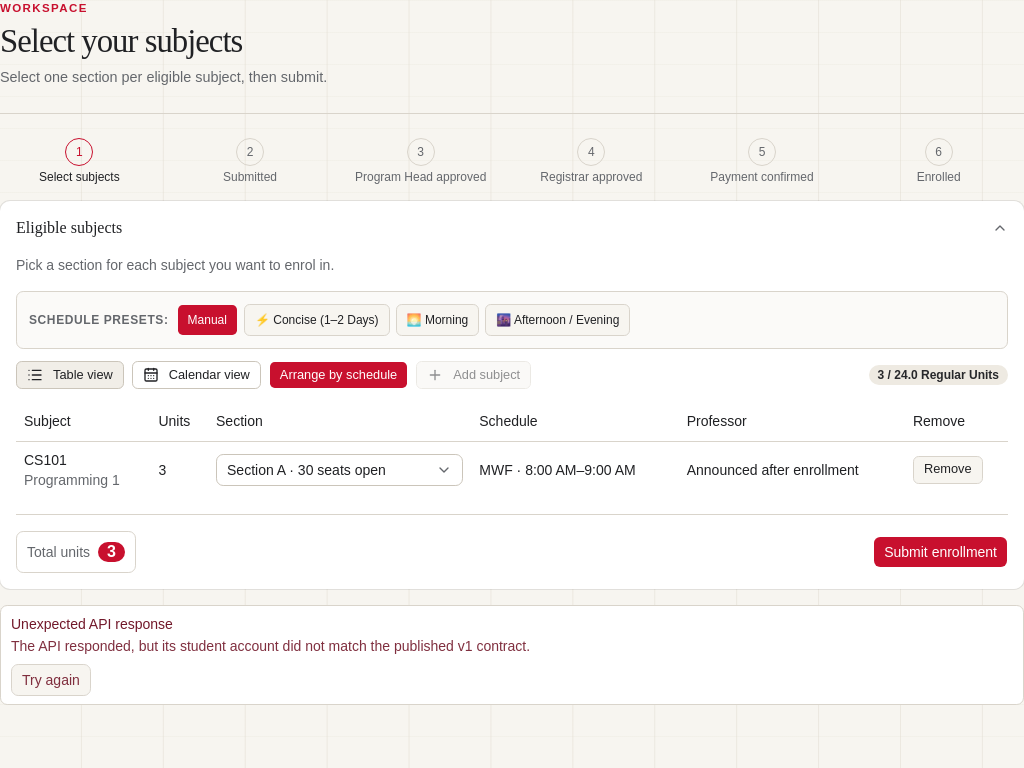
Test: EnrollmentWorkspace › shows a clear message and preserves the selection when submission conflicts
Click the dropdown named "CS101 section".
click(340, 470)  # box x1=216 y1=454 x2=463 y2=486
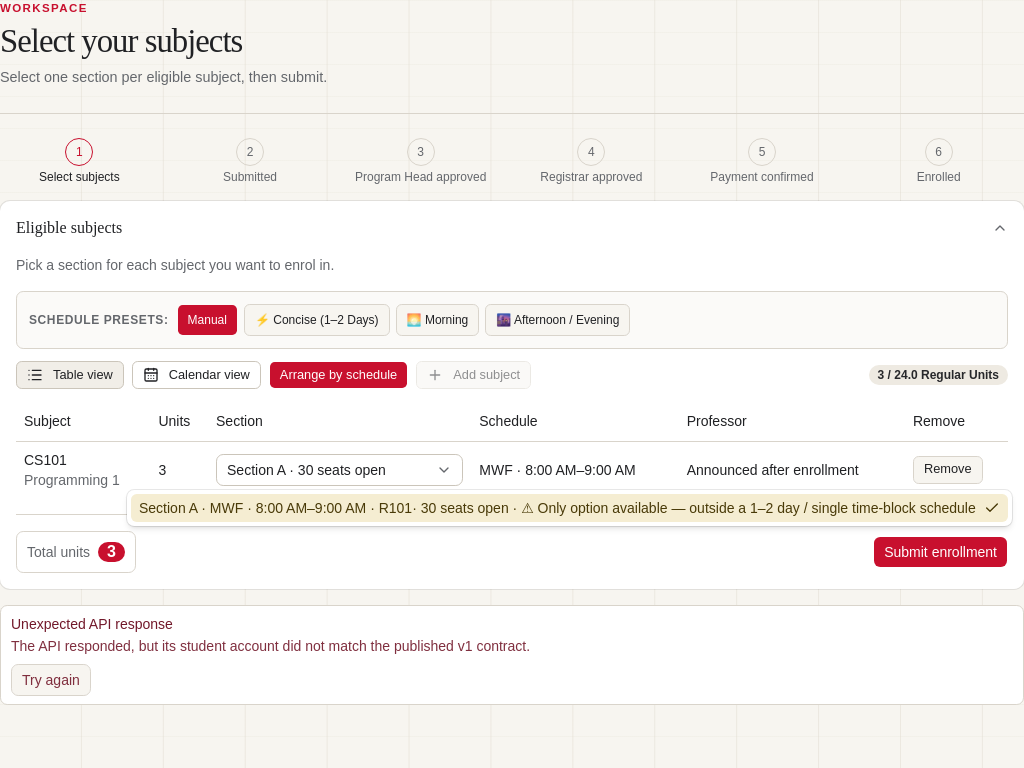
Click the option "Section A".
click(569, 508)  # box x1=131 y1=494 x2=1008 y2=522
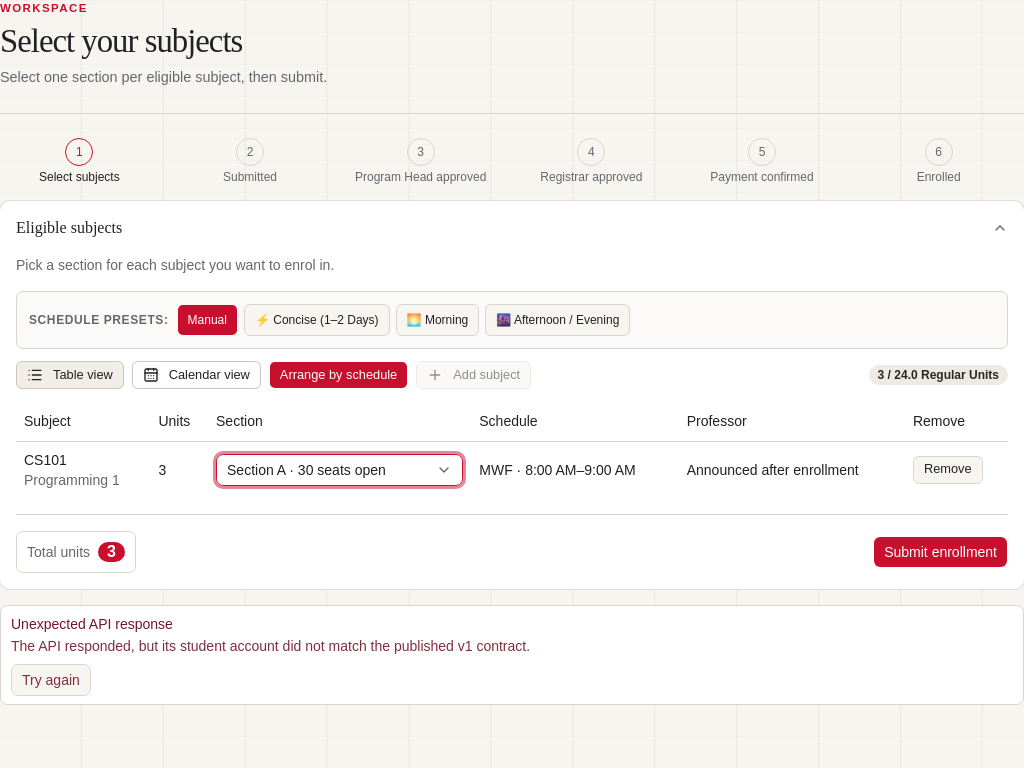
Click the button "Submit enrollment".
click(941, 552)  # box x1=873 y1=536 x2=1008 y2=568
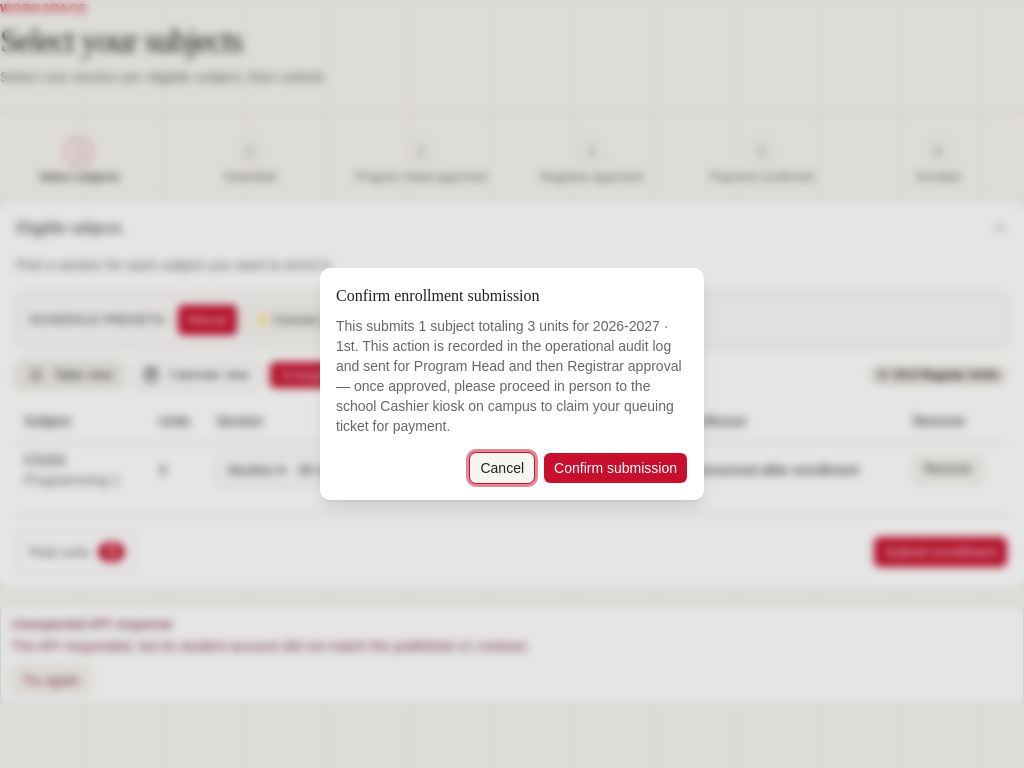
Click the button "Confirm submission".
click(616, 468)  # box x1=543 y1=452 x2=688 y2=484
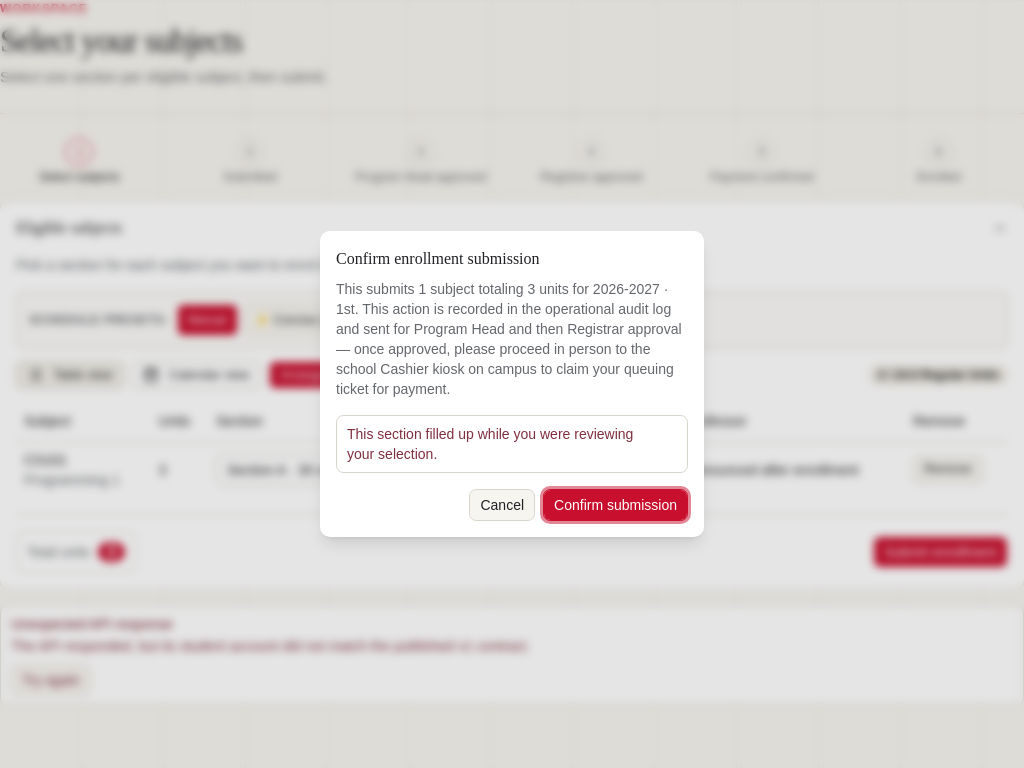
Expected: the dropdown named "CS101 section" shows "Section A", x1=216 y1=454 x2=463 y2=486
Now the list item "This section filled up while you were reviewing your selection." is shown, box x1=347 y1=424 x2=677 y2=464
